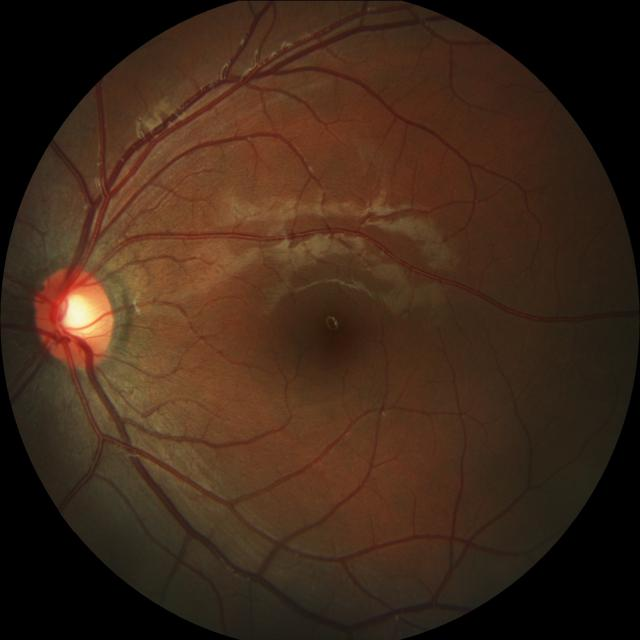OC: (54, 290, 100, 338)
OD: (35, 266, 117, 366)
